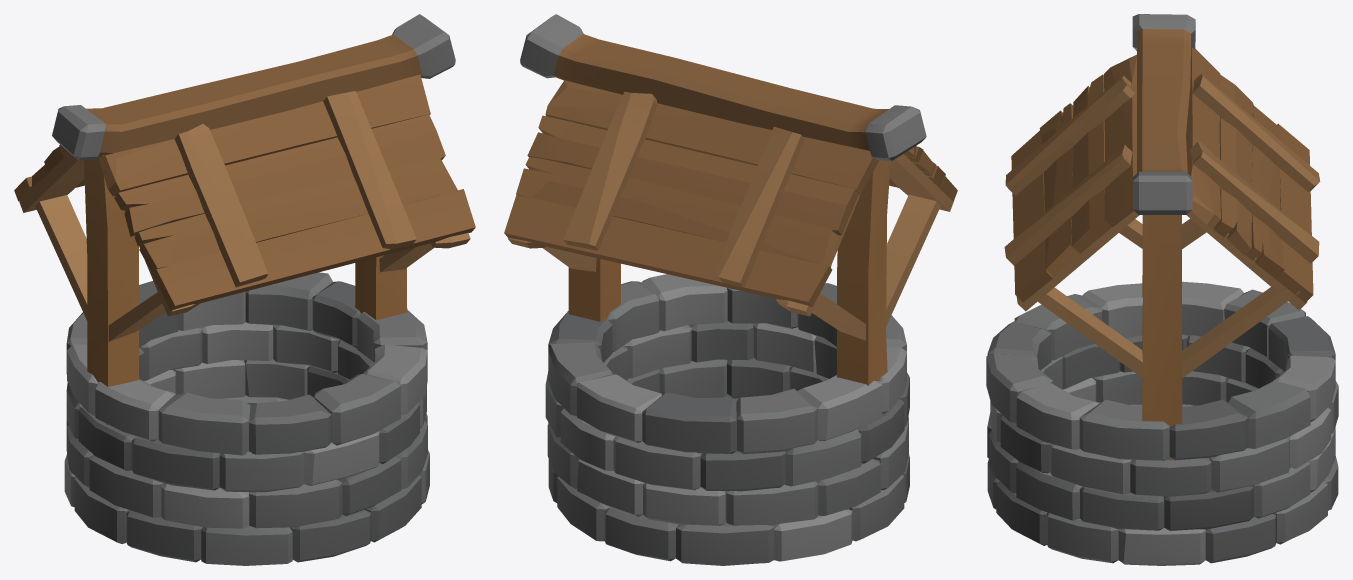
The model's file is Well.fbx.
3 views of the same model, side by side, from view 1: azimuth 30°, elevation 25°; view 2: azimuth 150°, elevation 25°; view 3: azimuth 270°, elevation 25° (orthographic). The views are drawn at different scales.
Parts seen in each view (by area): view 1: Well; view 2: Well; view 3: Well.
Part boxes in pixels (x1,y1,x2,y2): Well: (14, 14, 475, 565); Well: (504, 14, 957, 565); Well: (986, 14, 1338, 565).
Bounding box in the file's own units: 250 × 265 × 208.
